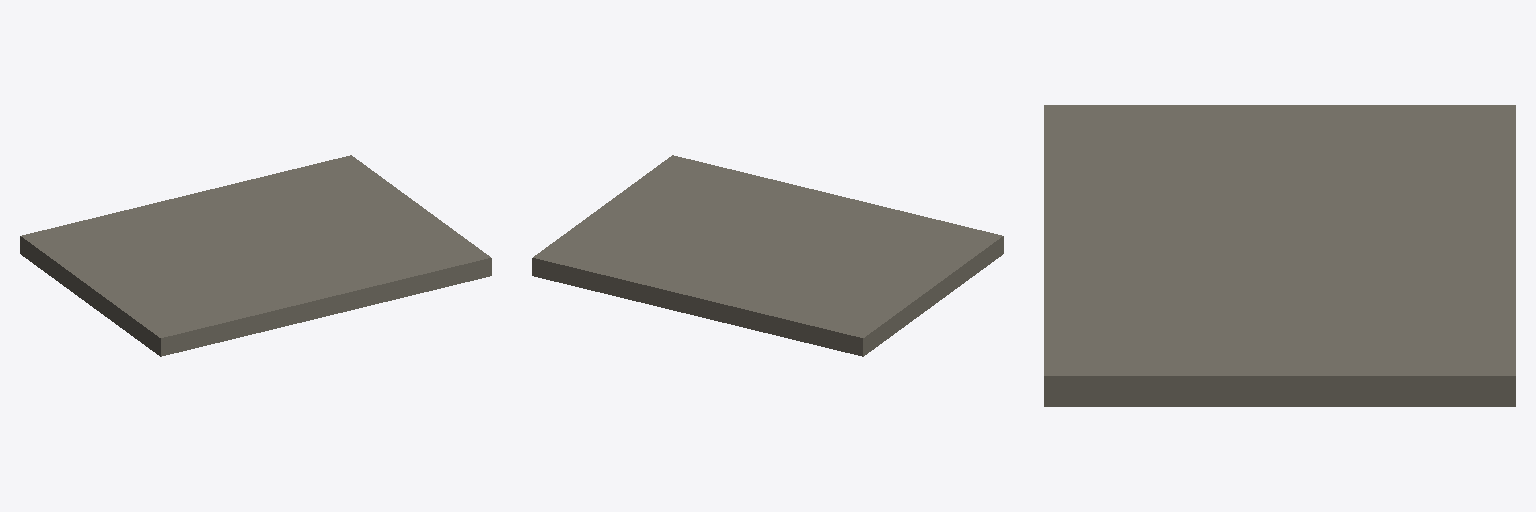
The robot description file, URDF, robot "parttoolgen_tabletop_proxy_v0":
<?xml version="1.0"?>
<robot name="parttoolgen_tabletop_proxy_v0">
  <link name="tabletop_proxy">
    <visual>
      <material name="wood">
        <color rgba="0.52 0.50 0.46 1.0"/>
      </material>
      <origin xyz="0 0 0"/>
      <geometry>
        <box size="0.75 0.55 0.04"/>
      </geometry>
    </visual>
    <collision>
      <origin xyz="0 0 0"/>
      <geometry>
        <box size="0.75 0.55 0.04"/>
      </geometry>
    </collision>


    <inertial>
      <mass value="500"/>
      <friction value="1.0"/>
      <inertia ixx="1000.0" ixy="0.0" ixz="0.0" iyy="1000.0" iyz="0.0" izz="1000.0"/>
    </inertial>
  </link>
</robot>

--- Facts derived from the render (not from the file) ---
3 views of the same robot in one strip: view 1: azimuth 30°, elevation 25°; view 2: azimuth 150°, elevation 25°; view 3: azimuth 270°, elevation 25° (orthographic).
Robot: parttoolgen_tabletop_proxy_v0 — 1 links, 0 joints (none); root link tabletop_proxy; default pose: every joint at zero.
Links seen in each view (by area): view 1: tabletop_proxy; view 2: tabletop_proxy; view 3: tabletop_proxy.
Link boxes in pixels (bbox=[...]): tabletop_proxy: bbox=[20, 155, 491, 356]; tabletop_proxy: bbox=[532, 155, 1003, 356]; tabletop_proxy: bbox=[1044, 105, 1515, 406].
Bounding box of the posed robot: 0.75 × 0.55 × 0.04 m (x, y, z).
Geometry: primitives only (box / cylinder / sphere), no mesh files.
